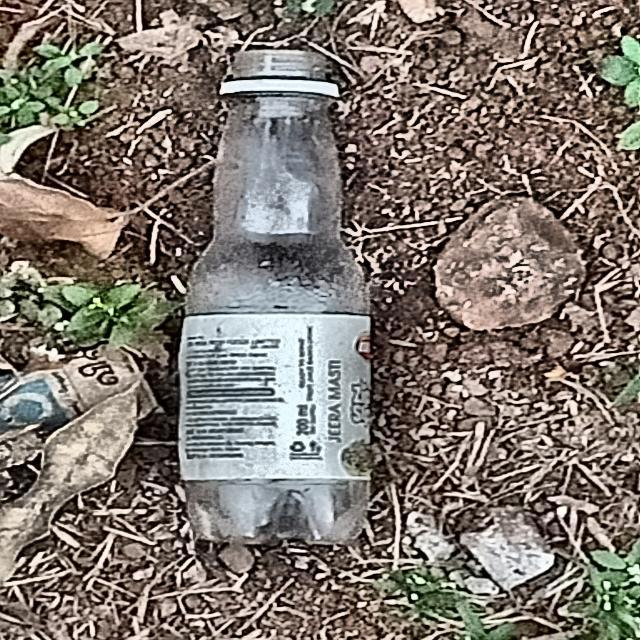anorganik: (178, 37, 371, 549)
